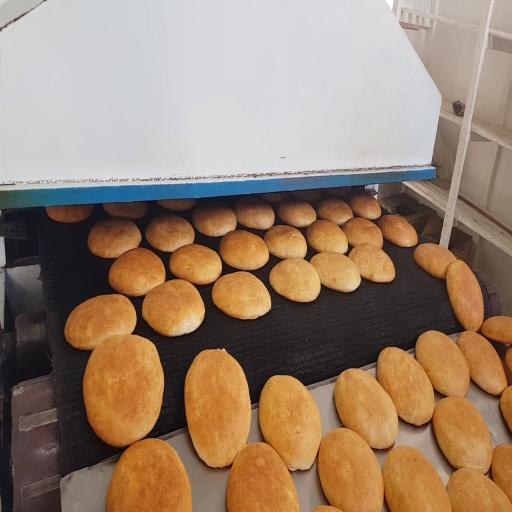bread: (83, 335, 163, 447), (185, 350, 251, 467), (107, 439, 192, 511), (259, 375, 321, 470), (318, 429, 383, 511), (335, 369, 398, 448), (227, 443, 299, 511), (433, 397, 492, 473), (383, 446, 451, 511), (378, 348, 434, 425), (65, 294, 136, 350), (142, 280, 205, 336), (416, 331, 470, 396), (457, 332, 507, 395), (212, 272, 271, 319), (447, 468, 511, 511), (109, 248, 165, 296), (447, 261, 484, 331), (270, 258, 320, 302), (170, 244, 222, 284), (88, 219, 141, 258), (220, 230, 269, 270), (310, 253, 360, 292), (145, 215, 194, 252), (349, 244, 395, 283), (414, 243, 456, 279), (264, 225, 307, 258), (192, 205, 236, 237), (307, 220, 347, 254), (378, 215, 417, 247), (234, 198, 274, 229), (343, 218, 383, 247), (492, 445, 511, 500), (317, 198, 353, 225), (278, 202, 316, 227), (45, 205, 94, 223), (103, 201, 148, 220), (481, 316, 511, 344), (350, 192, 381, 219), (500, 386, 511, 431), (158, 199, 196, 211), (260, 192, 288, 204), (291, 190, 321, 201), (324, 187, 351, 197), (505, 347, 511, 373), (313, 506, 341, 511)
